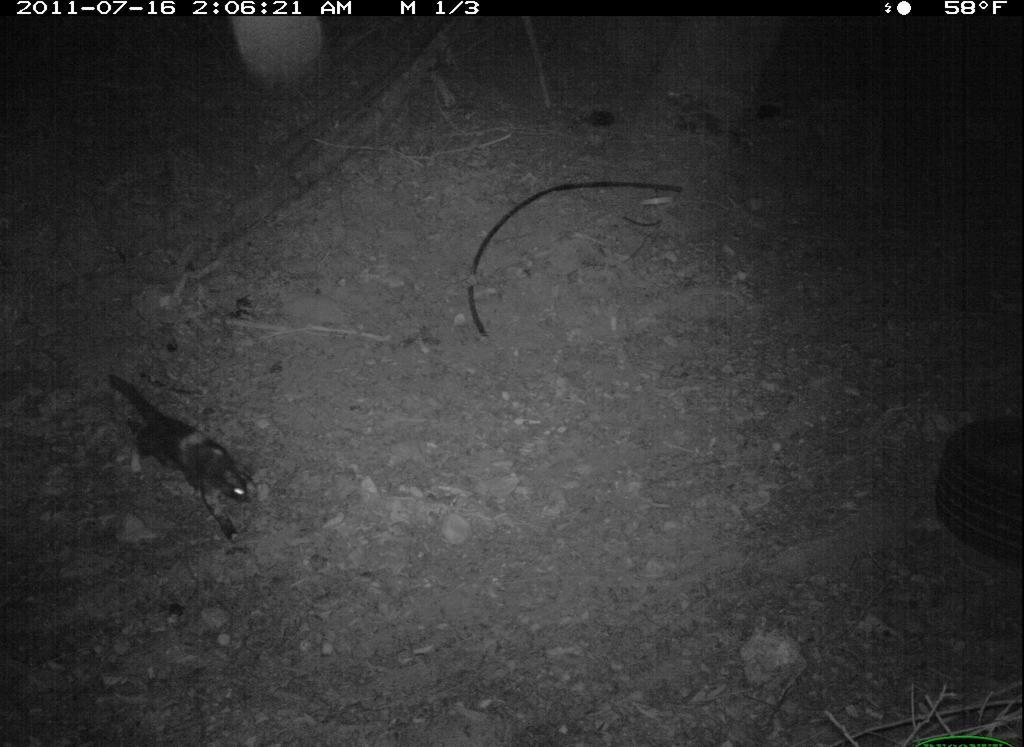cat: (99, 365, 264, 550)
